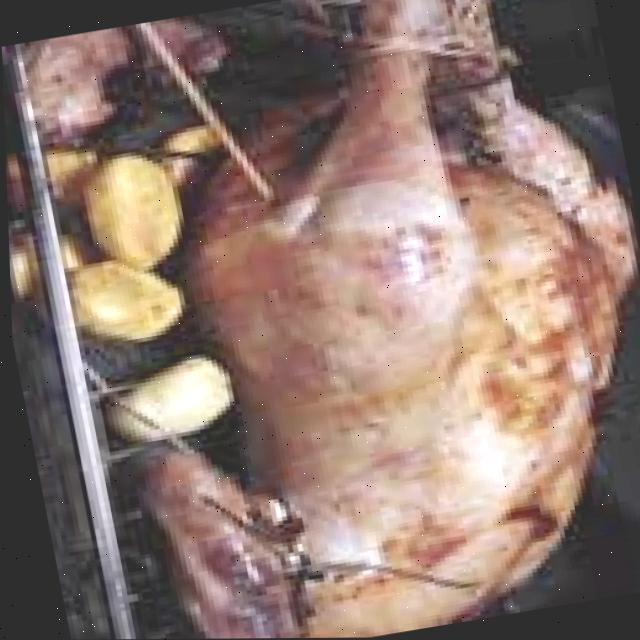鸡肉料理 含炸鸡: (134, 0, 640, 639)
